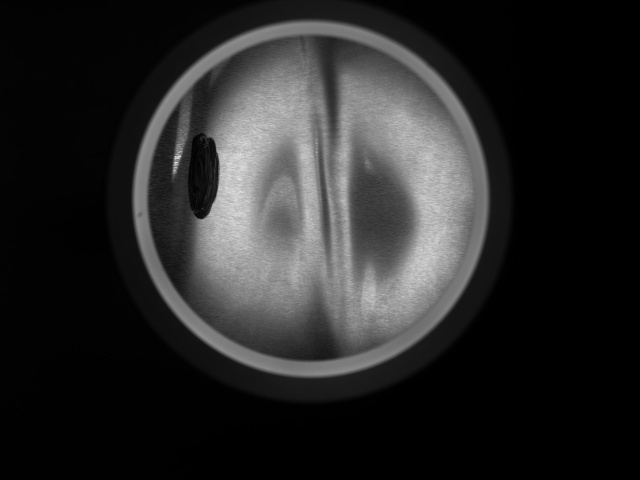zang_wu: (183, 131, 224, 220)
zhe_zhou: (188, 67, 435, 330)
